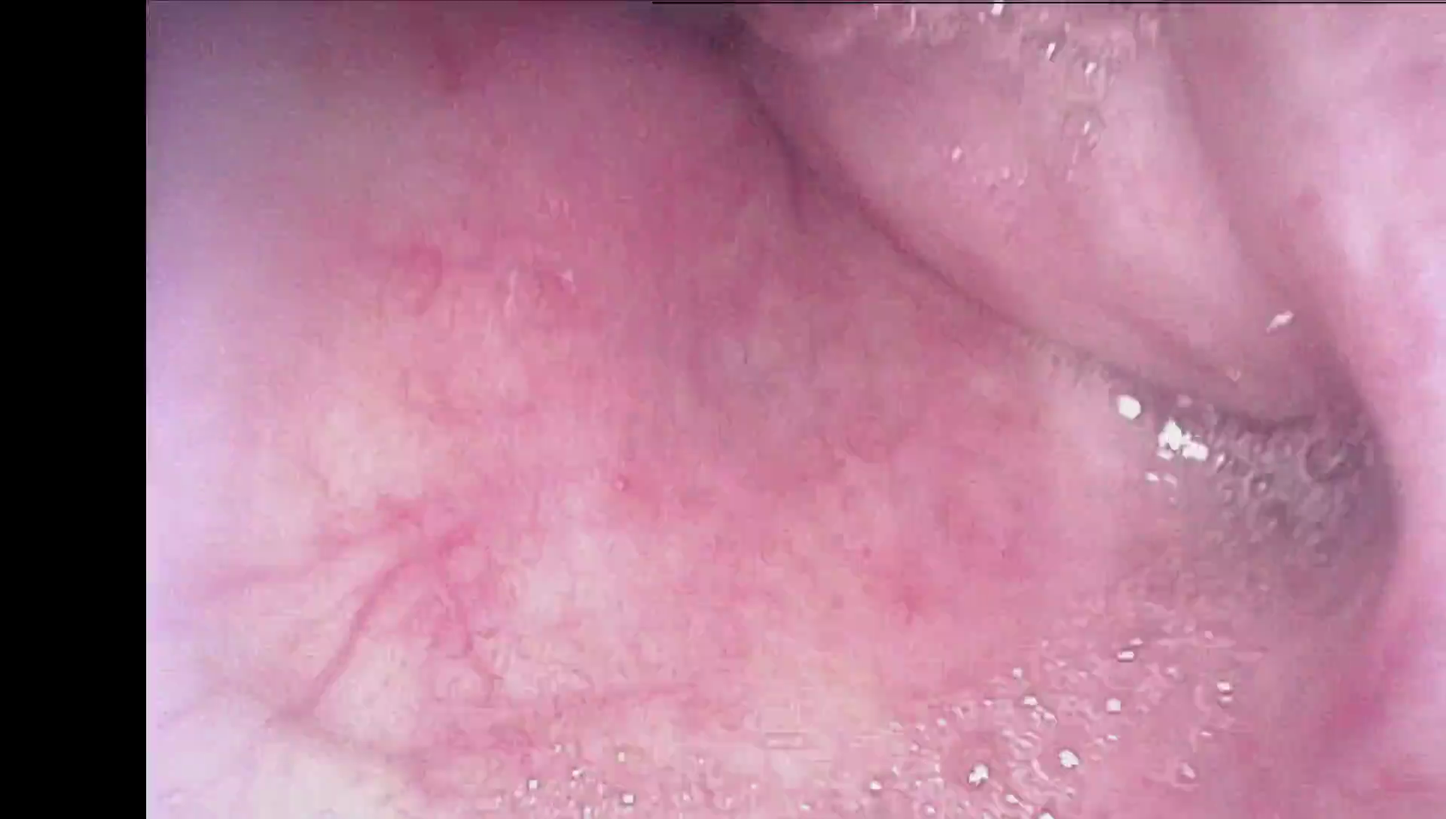close_wall: (154, 251, 475, 819)
next: (636, 0, 770, 60)
